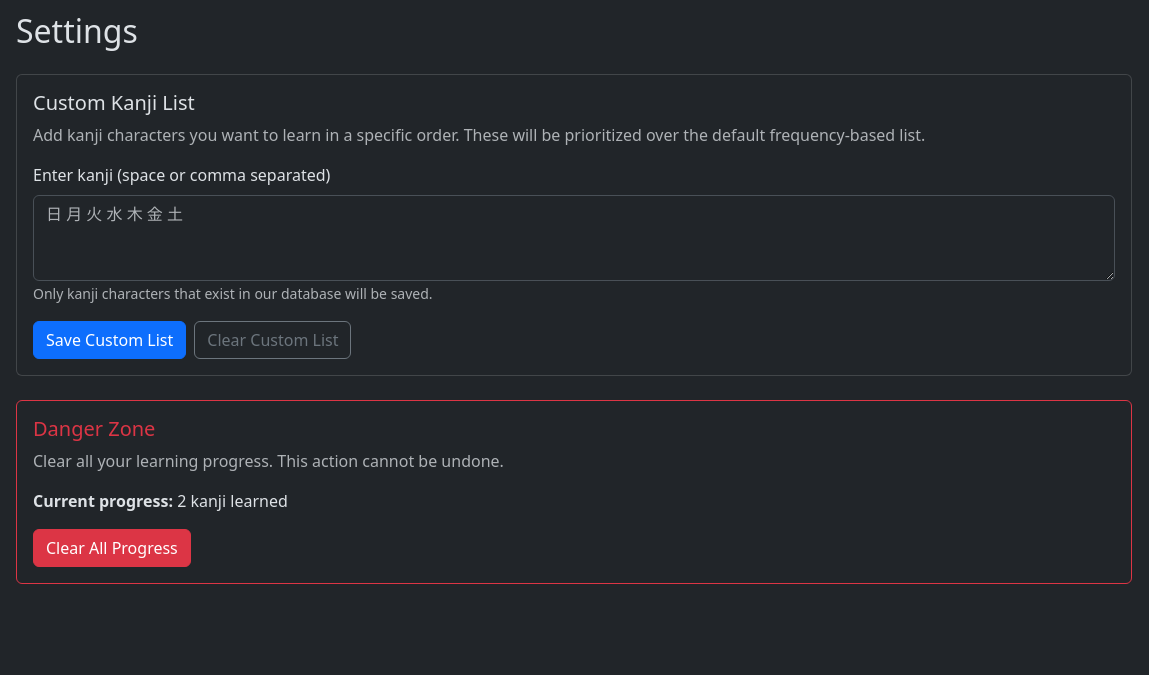
Scenario: SettingsPage › shows warning for invalid kanji
The width and height of the screenshot is (1149, 675).
Type "食 龍" into the text box with test id "custom-kanji-input" at (574, 238), box [33,195,1115,281]
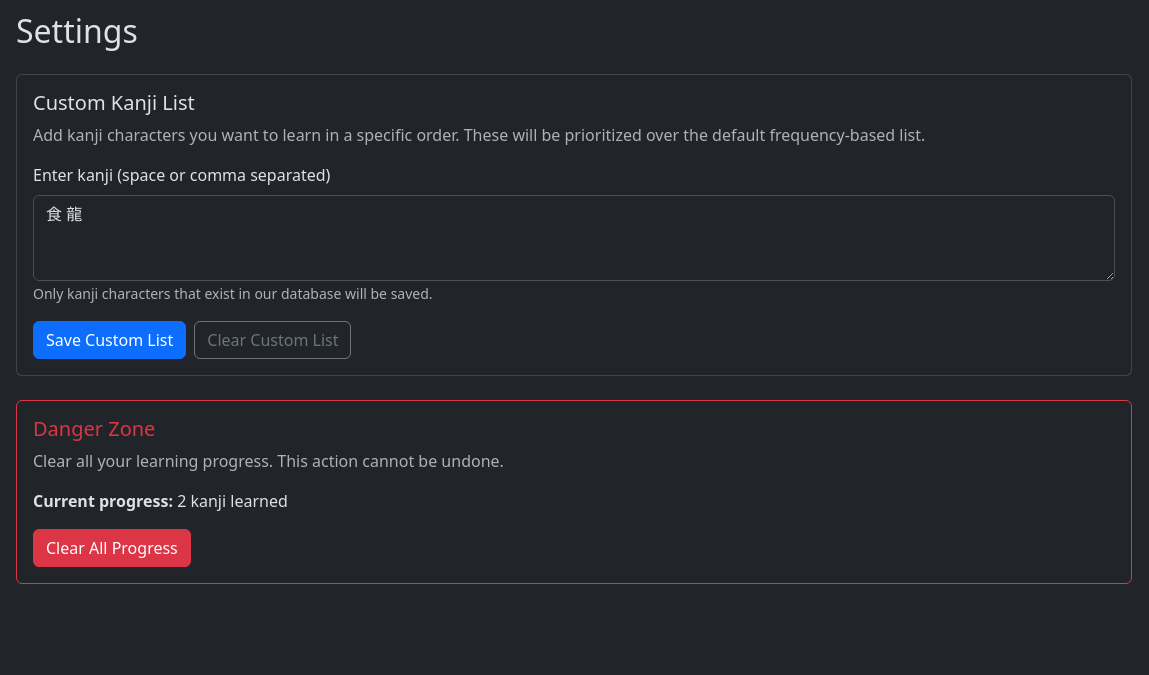
Click the button with test id "save-custom-button" at (110, 340), box [33,321,186,359]
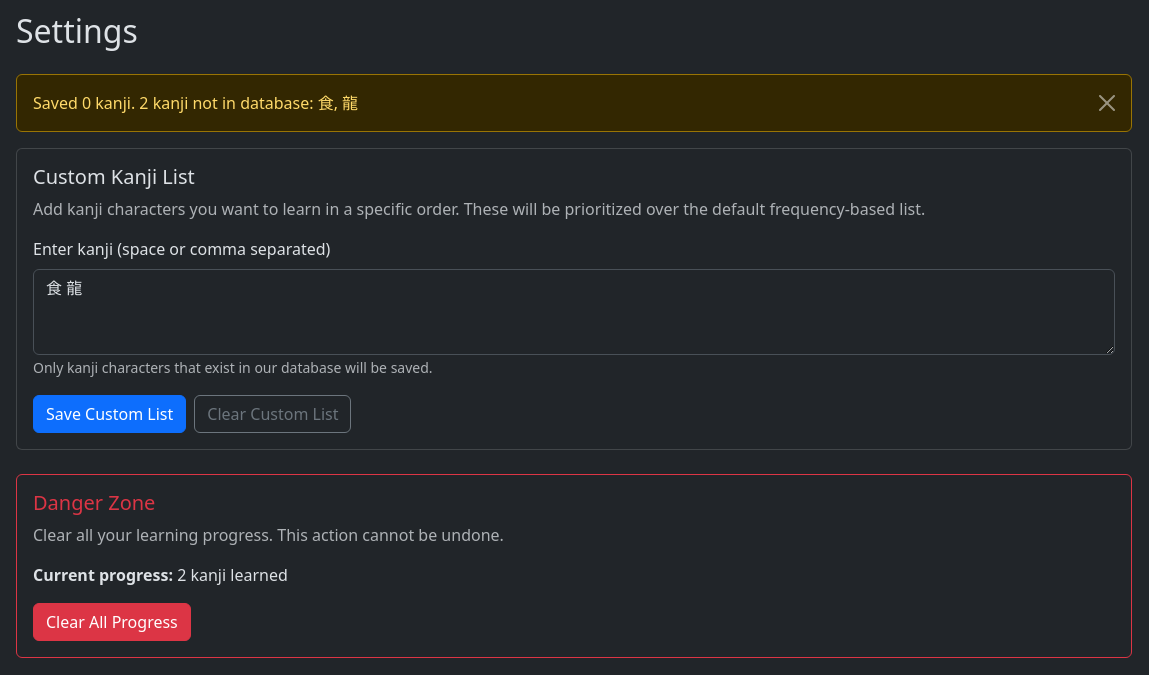
expect the text "Saved 0 kanji. 2 kanji not in database: 食, 龍" is shown: met, box [16,74,1132,132]
